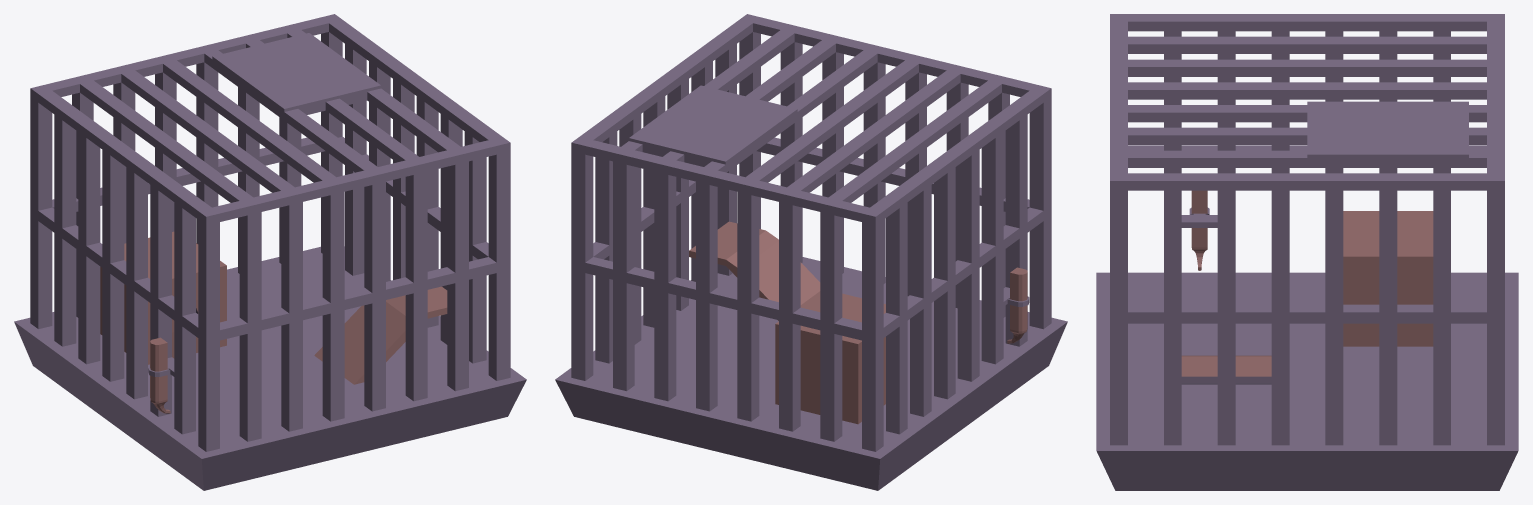
The model's file is Gabbietta.fbx.
The picture shows the model from 3 angles, left to right: view 1: azimuth 30°, elevation 25°; view 2: azimuth 150°, elevation 25°; view 3: azimuth 270°, elevation 25°; orthographic projection. The views are drawn at different scales.
Parts seen in each view (by area): view 1: Gabbietta, Cube.002; view 2: Gabbietta, Cube.002; view 3: Gabbietta, Cube.002.
Part boxes in pixels (<box>): Gabbietta: <box>14,14,526,490</box>; Cube.002: <box>212,33,380,111</box>; Gabbietta: <box>555,14,1067,490</box>; Cube.002: <box>629,85,797,164</box>; Gabbietta: <box>1096,14,1518,490</box>; Cube.002: <box>1307,101,1468,157</box>.
Bounding box in the file's own units: 111 × 89.51 × 109.
